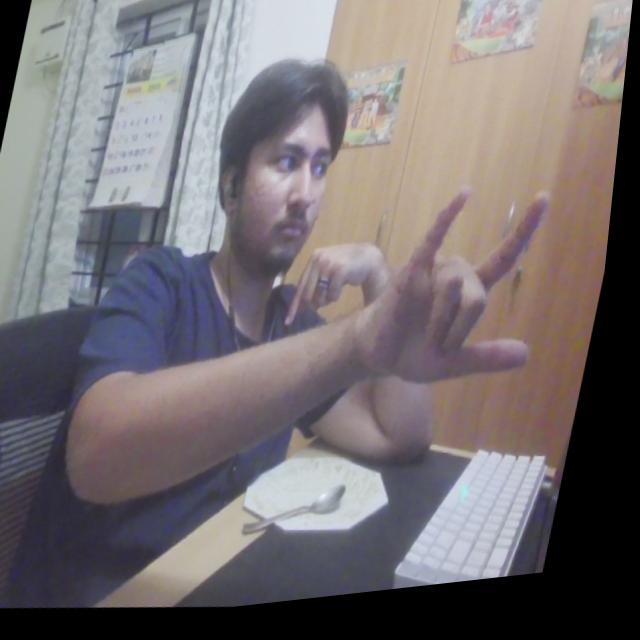iloveyou: (367, 173, 582, 416)
